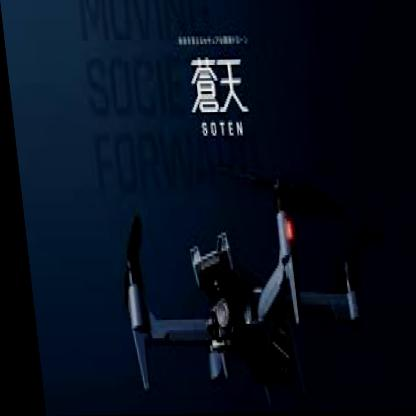UAS: (108, 164, 361, 409)
